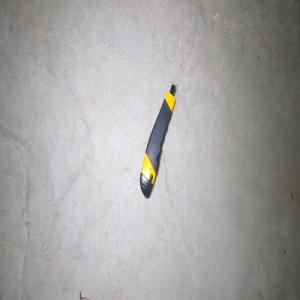Cutter: (139, 83, 176, 198)
